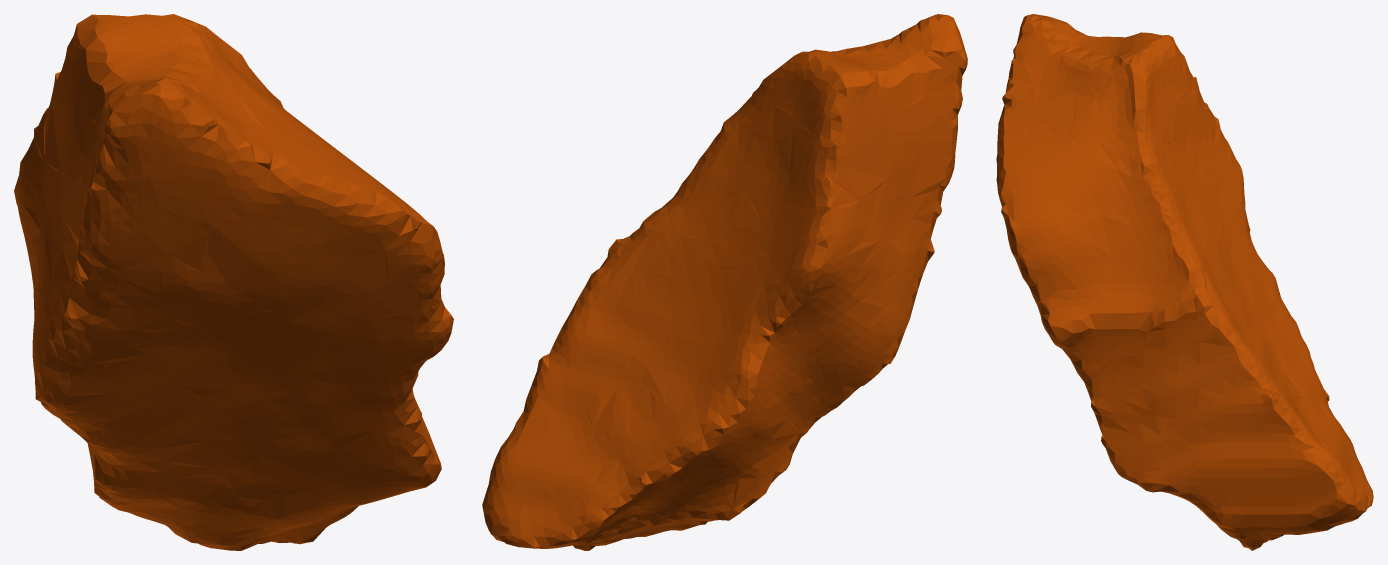
File: Model_47_RH__Area_13_of_cortex__lateral_part_(A13L).obj
The picture shows the model from 3 angles, left to right: view 1: azimuth 30°, elevation 25°; view 2: azimuth 150°, elevation 25°; view 3: azimuth 270°, elevation 25°; orthographic projection. The views are drawn at different scales.
Size of the model in its own units: 2.88 by 4.36 by 3.42.
